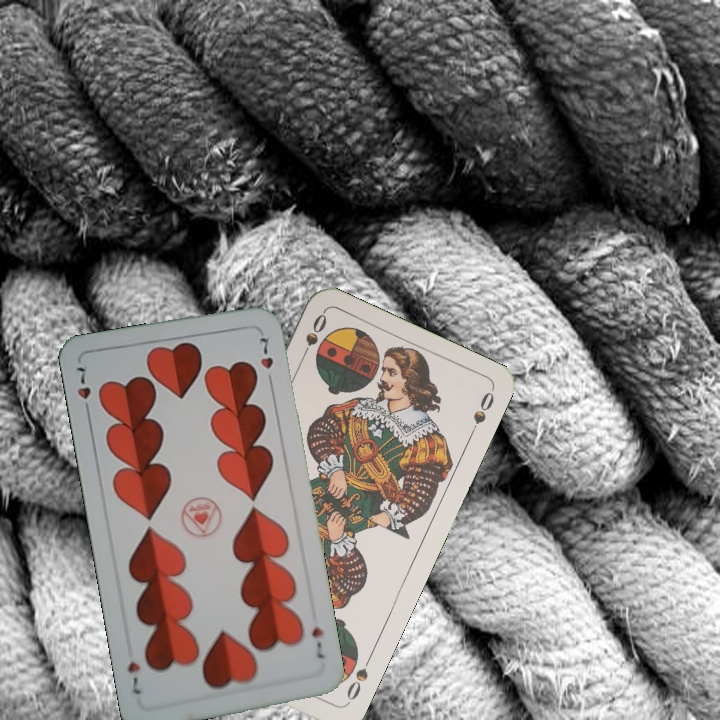H7: (72, 363, 94, 419), (308, 623, 326, 661)
SO: (296, 309, 330, 365), (342, 650, 375, 706)
